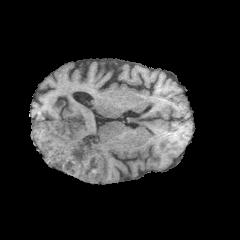glioma: (41, 129, 105, 180)
